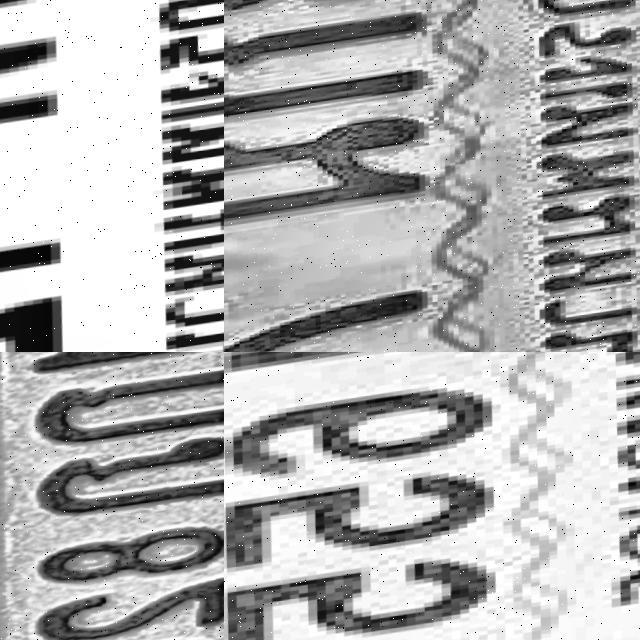license-plate: (224, 0, 640, 352), (224, 352, 640, 640), (0, 0, 224, 352), (0, 352, 224, 640)
